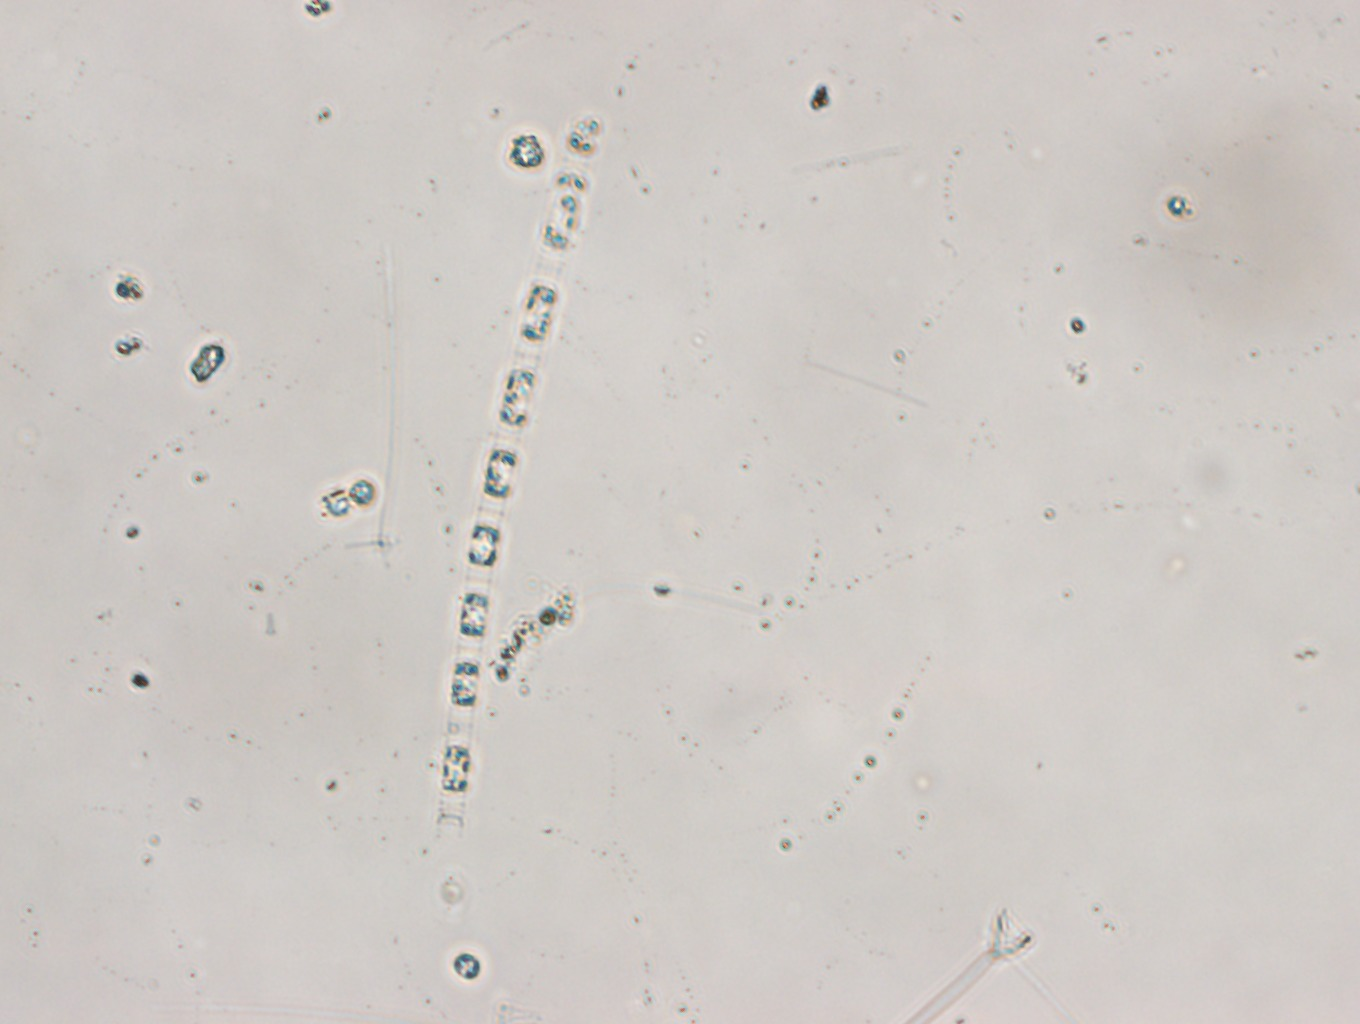skeletonema: (436, 113, 601, 840)
